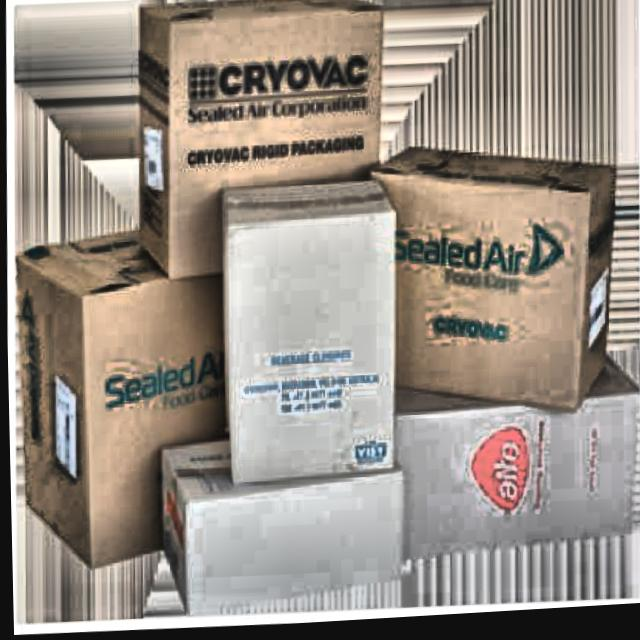Cardbox: (26, 208, 333, 574), (132, 0, 432, 287), (352, 124, 624, 439), (352, 313, 640, 581), (198, 171, 404, 492), (151, 415, 425, 633)
